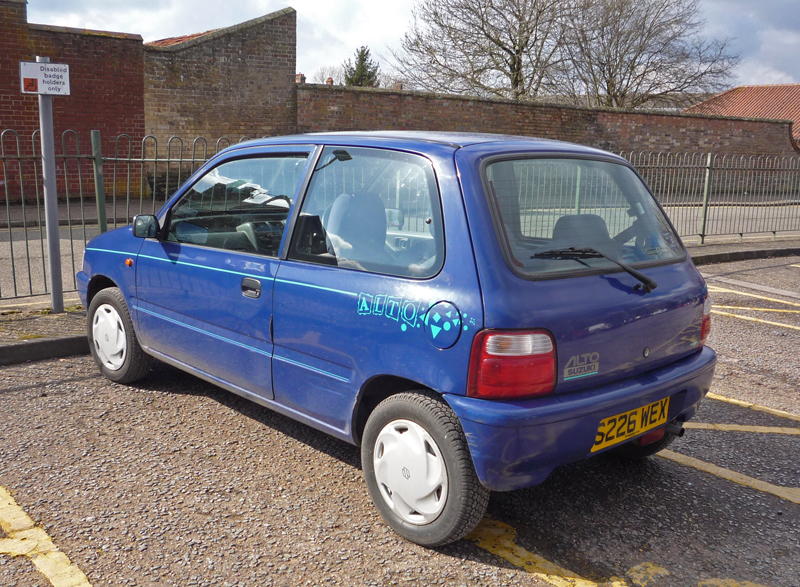car: (75, 124, 727, 551)
